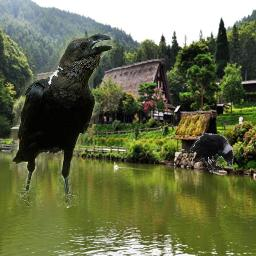Crow: (9, 29, 118, 207), (190, 133, 234, 173)
